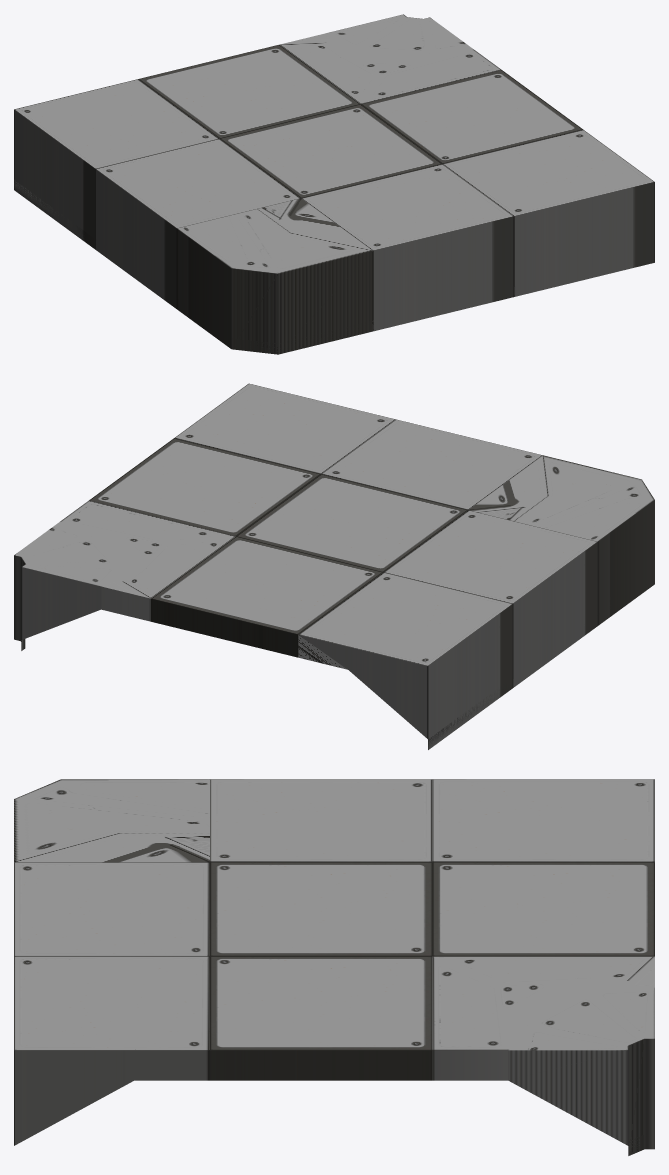
File: A_Ceiling_Corner_In_6x6.FBX
The picture shows the model from 3 angles, top to bottom: view 1: azimuth 30°, elevation 25°; view 2: azimuth 150°, elevation 25°; view 3: azimuth 270°, elevation 25°; orthographic projection. The views are drawn at different scales.
Parts seen in each view (by area): view 1: A_Ceiling_Corner_In_6x6; view 2: A_Ceiling_Corner_In_6x6; view 3: A_Ceiling_Corner_In_6x6.
Boxes of the visible parts, x1,y1,x2,y2 form: A_Ceiling_Corner_In_6x6: (14,14,654,354); A_Ceiling_Corner_In_6x6: (14,383,654,749); A_Ceiling_Corner_In_6x6: (14,779,654,1155).
Size of the model in its own units: 576 by 109 by 576.
